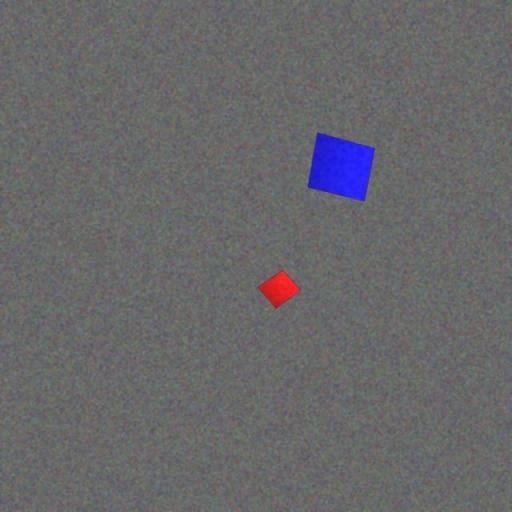BLUE_SQUARE: (306, 131, 376, 202)
RED_SQUARE: (256, 270, 302, 310)
